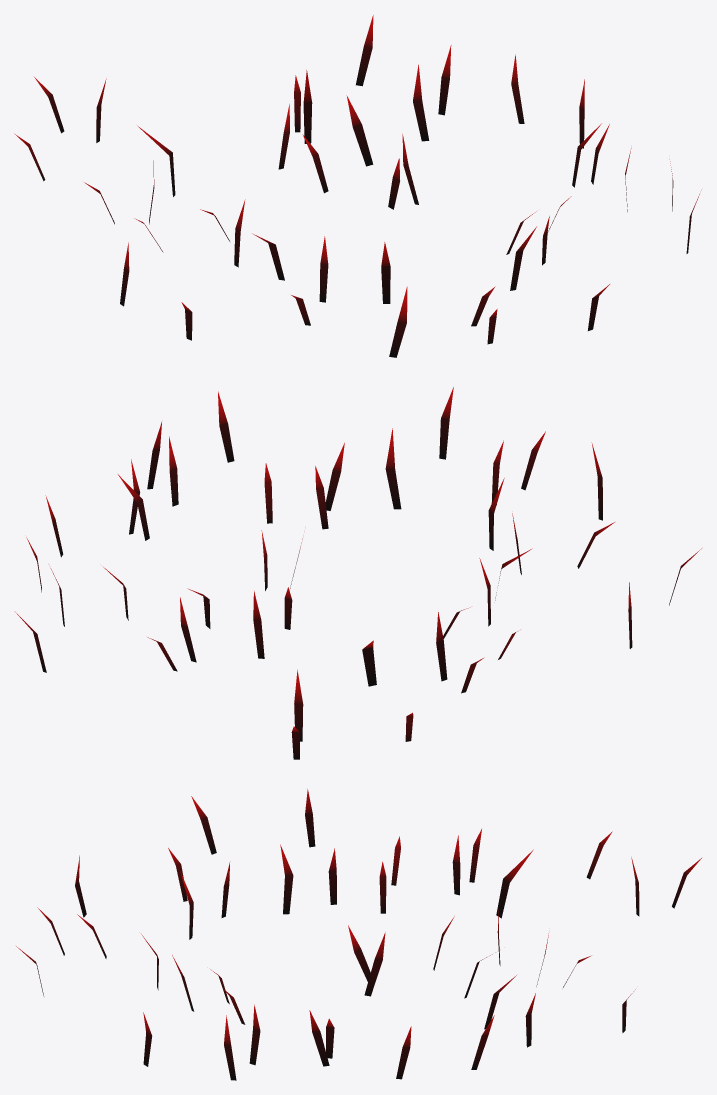
The model's file is PatchGrass03.fbx.
3 renders of one model, top to bottom at view 1: azimuth 30°, elevation 25°; view 2: azimuth 150°, elevation 25°; view 3: azimuth 270°, elevation 25°, orthographic. The views are drawn at different scales.
Parts seen in each view (by area): view 1: PatchGrass03_LOD0; view 2: PatchGrass03_LOD0; view 3: PatchGrass03_LOD0.
Boxes of the visible parts, left/top/right/bottom form: PatchGrass03_LOD0: left=14, top=15, right=701, bottom=357; PatchGrass03_LOD0: left=14, top=387, right=701, bottom=759; PatchGrass03_LOD0: left=16, top=789, right=701, bottom=1080.
Bounding box in the file's own units: 277 × 36.71 × 338.
